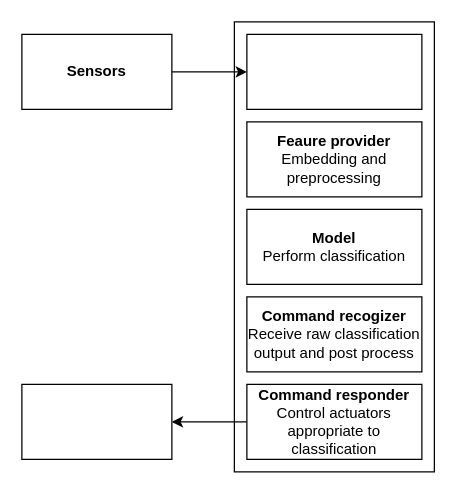
This 456x494 diagram has some shape labels left out. Here are the shapes that lost their labels. From the top down, the box of each, then its label:
(246, 33, 422, 109): Raw data provider Read raw data
(21, 383, 172, 459): Actuators
